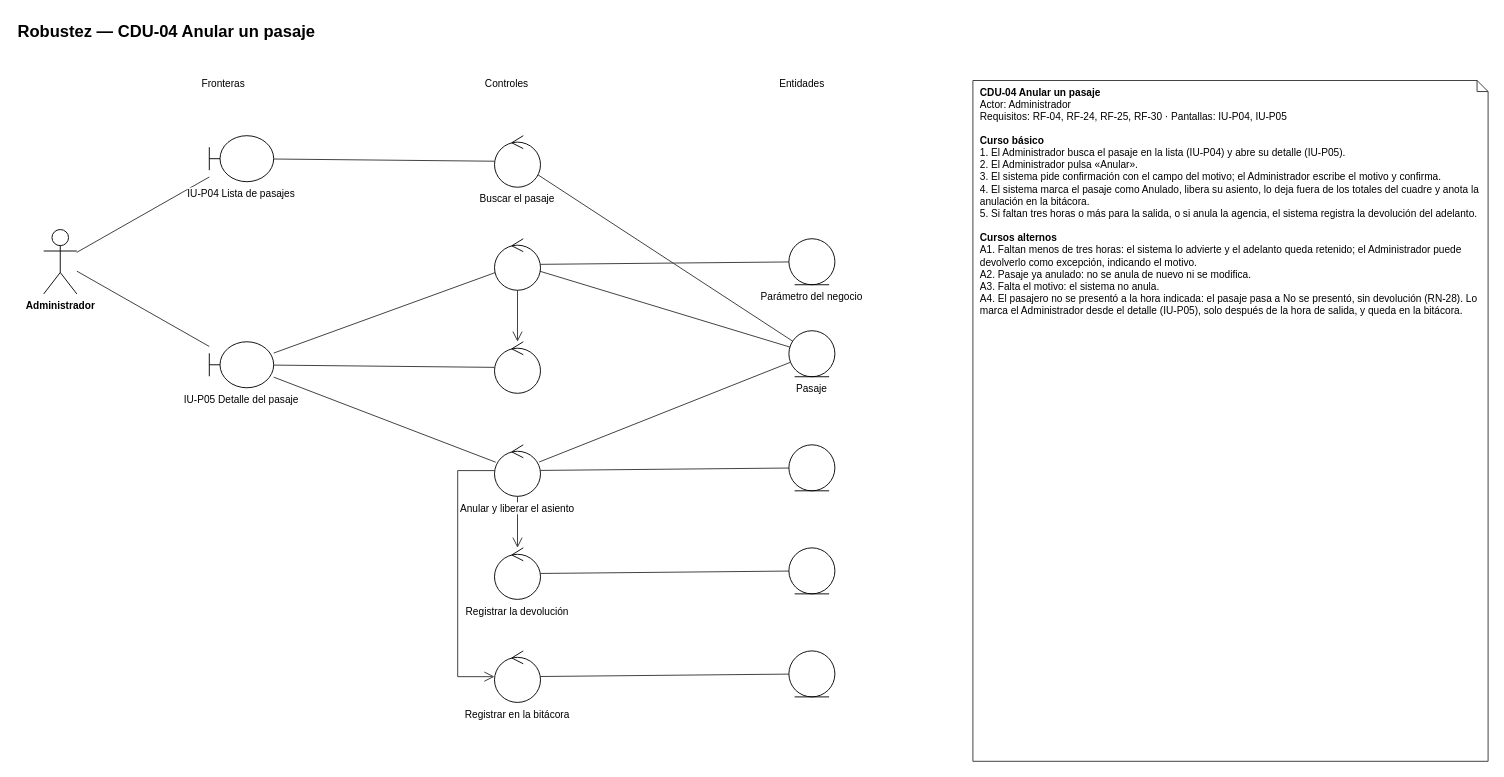
The diagram is 1504 pixels wide and 777 high, and some of its shapes have lost their labels. The shapes that lost their labels are listed below. From the top down, each one's centre as x and y in pixels, then its label:
point (517, 264): Verificar el aviso de tres horas
point (517, 367): Pedir confirmación
point (811, 467): Asiento
point (811, 570): Pago
point (811, 673): Registro de bitácora
